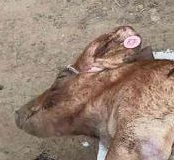text: (115, 26, 153, 61)
